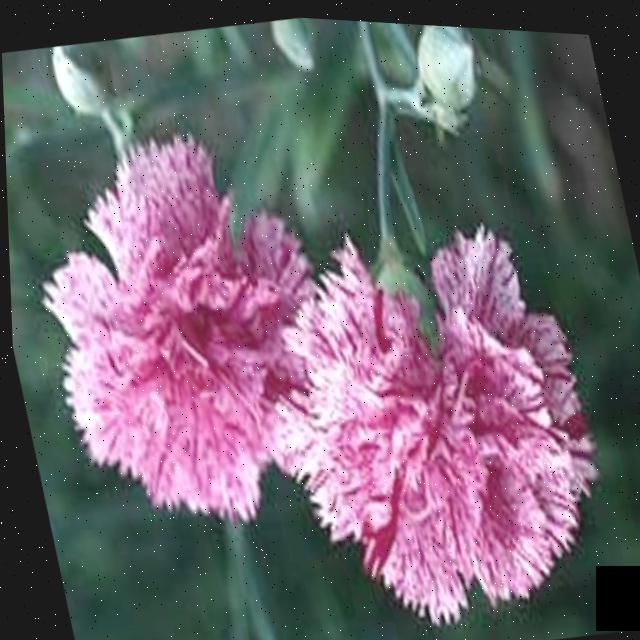carnation: (266, 215, 619, 627), (22, 137, 356, 564)
